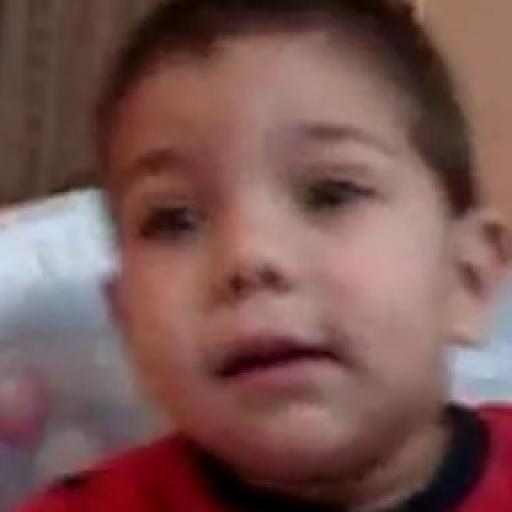Autism: (93, 40, 504, 505)
